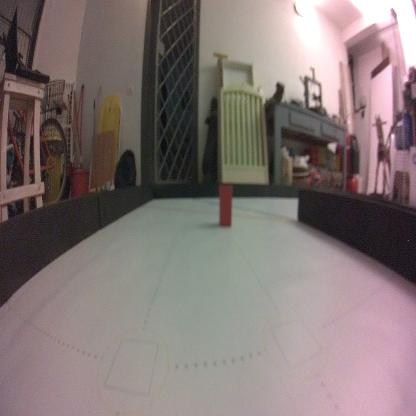red: (219, 183, 233, 229)
